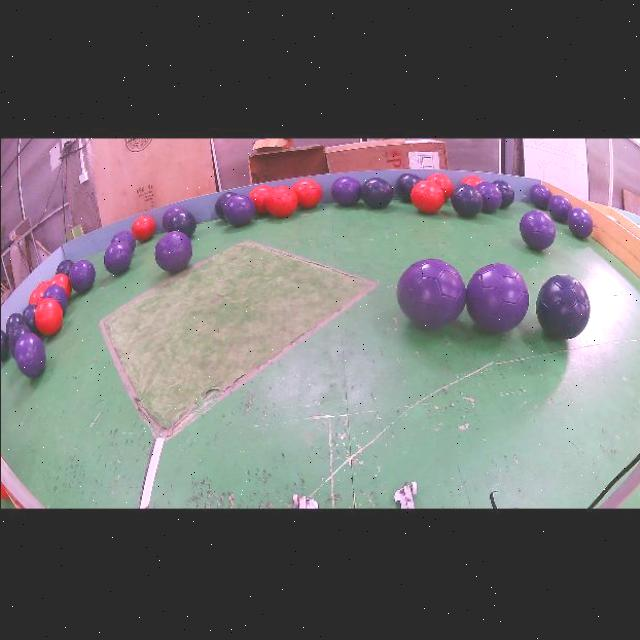B: (535, 273, 589, 337), (450, 182, 482, 215), (361, 175, 393, 207), (394, 171, 421, 201), (7, 322, 30, 355), (167, 209, 195, 236), (214, 189, 236, 218), (492, 178, 514, 205), (21, 303, 38, 332), (5, 310, 23, 333), (55, 257, 73, 274), (0, 328, 8, 360)
P: (396, 257, 465, 327), (465, 261, 528, 331), (154, 229, 191, 270), (519, 209, 555, 248), (14, 331, 45, 376), (222, 193, 254, 224), (102, 239, 131, 273), (330, 174, 361, 205), (68, 257, 95, 291), (475, 179, 501, 211), (567, 206, 592, 237), (42, 283, 66, 312), (547, 193, 571, 221), (528, 183, 551, 207), (110, 228, 135, 249), (162, 203, 183, 228)
R: (34, 296, 63, 335), (410, 179, 443, 211), (264, 184, 297, 215), (291, 176, 321, 206), (425, 171, 452, 198), (248, 183, 271, 212), (131, 214, 155, 240), (48, 272, 70, 297), (28, 286, 45, 302), (460, 174, 482, 185), (37, 279, 50, 288)
